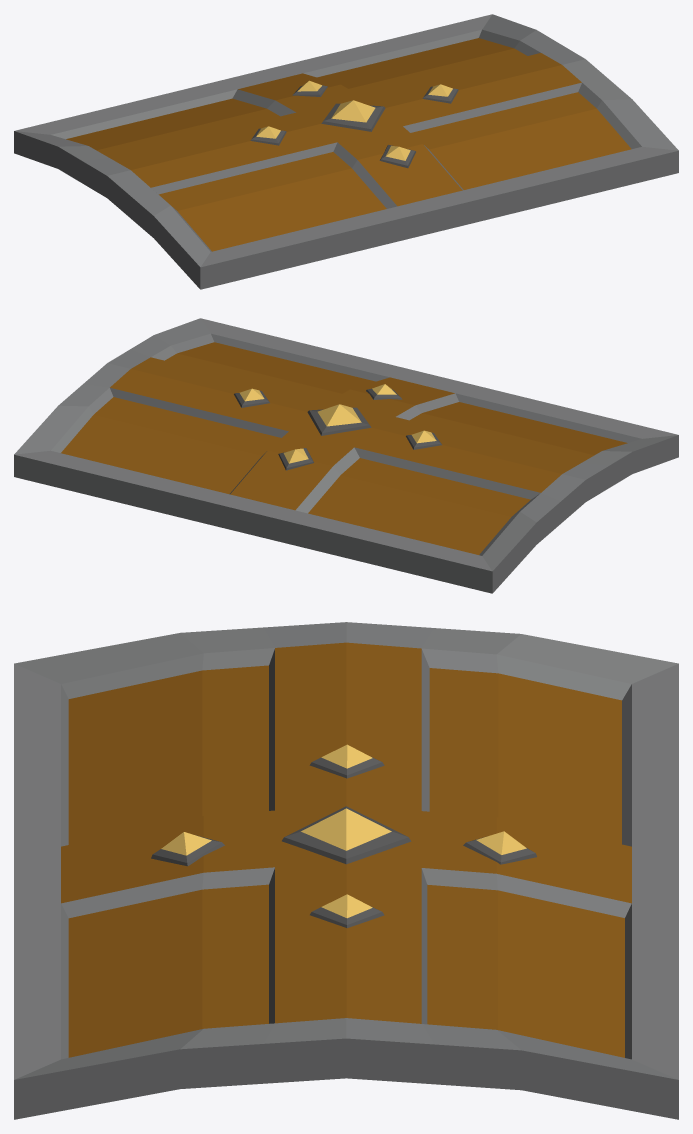
File: shield4.fbx
3 renders of one model, top to bottom at view 1: azimuth 30°, elevation 25°; view 2: azimuth 150°, elevation 25°; view 3: azimuth 270°, elevation 25°, orthographic. The views are drawn at different scales.
Parts seen in each view (by area): view 1: shield4, Cone.001, Cone.002, Cone.004, Cone.005; view 2: shield4, Cone.001, Cone.003, Cone.004, Cone.005; view 3: shield4, Cone.001, Cone.005, Cone.002, Cone.004, Cone.003.
Boxes of the visible parts, left/top/right/bottom form: shield4: left=14, top=14, right=678, bottom=289; Cone.001: left=321, top=100, right=385, bottom=131; Cone.002: left=379, top=144, right=415, bottom=168; Cone.004: left=422, top=84, right=458, bottom=103; Cone.005: left=250, top=126, right=286, bottom=145; shield4: left=14, top=318, right=678, bottom=593; Cone.001: left=307, top=404, right=371, bottom=435; Cone.003: left=278, top=448, right=313, bottom=470; Cone.004: left=234, top=388, right=269, bottom=407; Cone.005: left=406, top=430, right=441, bottom=449; shield4: left=14, top=622, right=678, bottom=1119; Cone.001: left=282, top=806, right=411, bottom=864; Cone.005: left=309, top=744, right=384, bottom=778; Cone.002: left=151, top=832, right=224, bottom=866; Cone.004: left=310, top=894, right=384, bottom=928; Cone.003: left=463, top=831, right=536, bottom=864.
Bounding box in the file's own units: 273 × 33.47 × 184.
